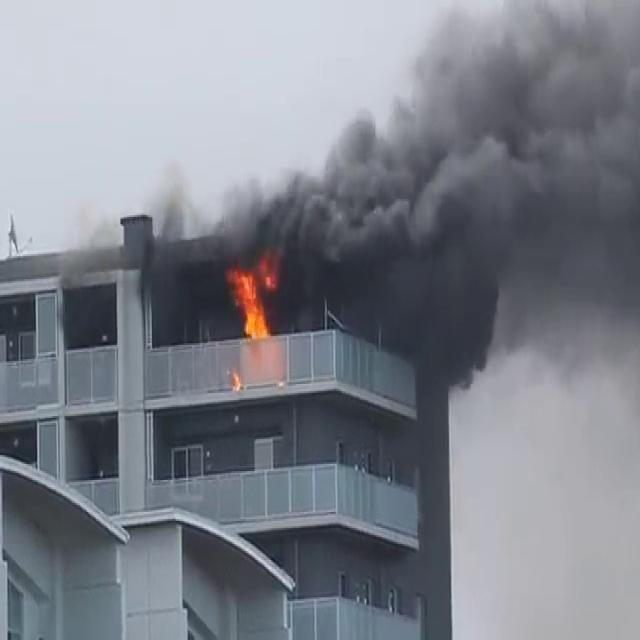Fire: (224, 256, 278, 345)
Smoke: (252, 0, 640, 380)
